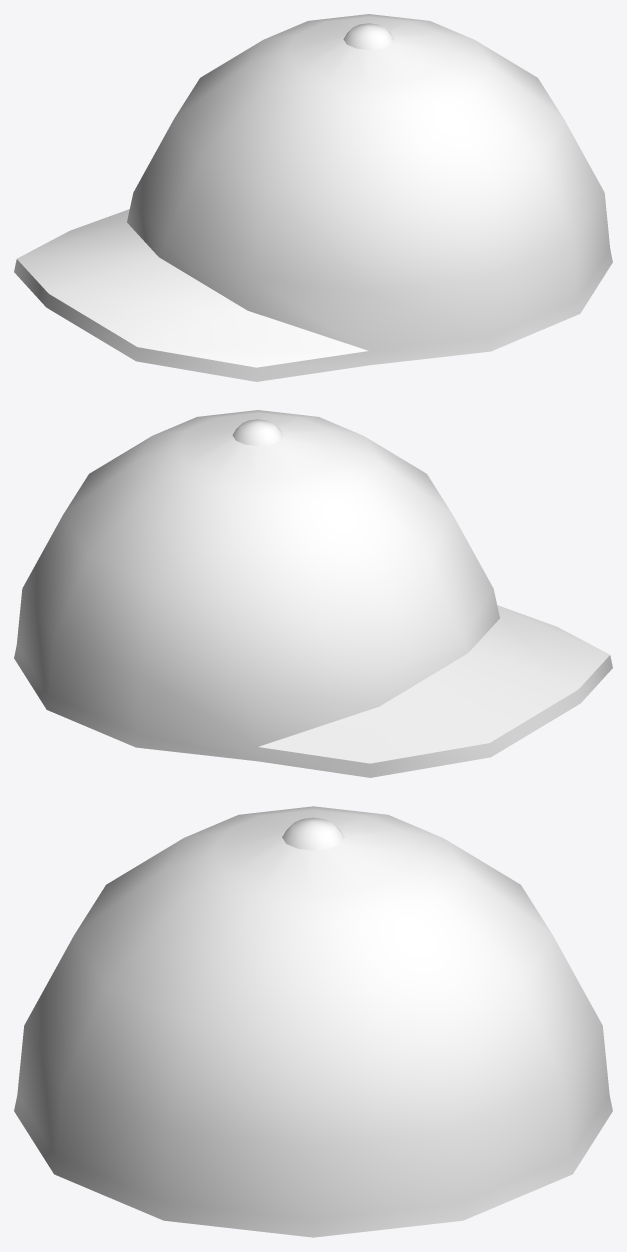
File: dad_hat.fbx
3 renders of one model, top to bottom at view 1: azimuth 30°, elevation 25°; view 2: azimuth 150°, elevation 25°; view 3: azimuth 270°, elevation 25°, orthographic. The views are drawn at different scales.
Parts seen in each view (by area): view 1: Sphere; view 2: Sphere; view 3: Sphere.
Part boxes in pixels (x1,y1,x2,y2): Sphere: [14, 14, 612, 381]; Sphere: [14, 410, 612, 777]; Sphere: [14, 806, 612, 1237].
Bounding box in the file's own units: 126 × 53.08 × 99.85.
